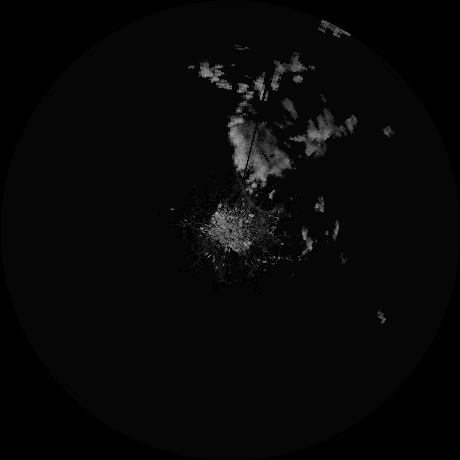frontgust: (240, 186, 284, 215)
